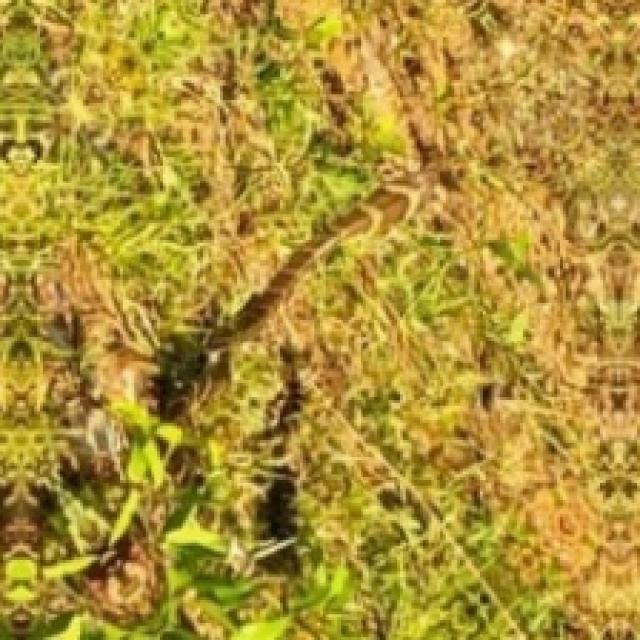king cobra: (211, 0, 434, 359)
